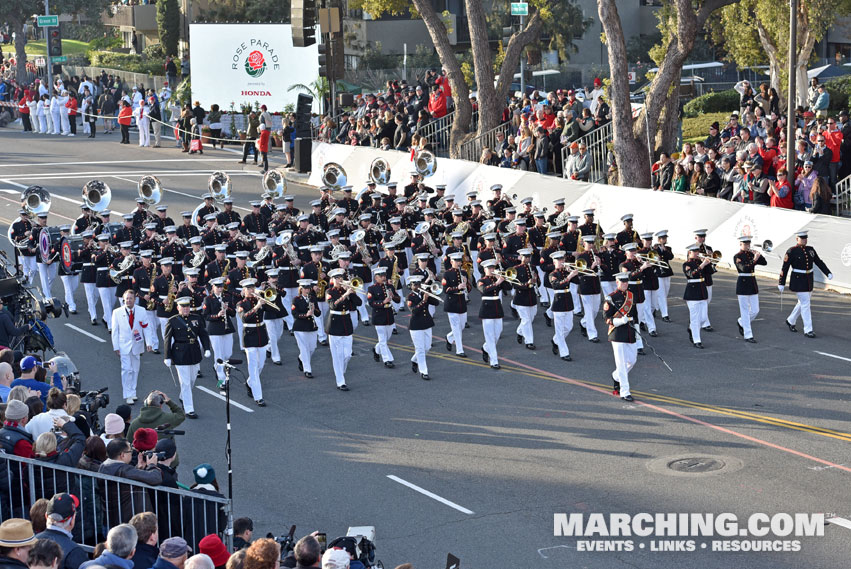feet: (733, 311, 763, 348), (785, 308, 818, 341), (607, 368, 637, 403), (477, 338, 507, 372), (240, 374, 270, 408), (405, 351, 434, 384), (176, 388, 203, 423), (328, 365, 358, 395), (370, 341, 399, 372), (549, 332, 575, 364), (443, 328, 468, 361), (577, 316, 603, 346), (119, 374, 143, 405), (294, 351, 318, 380), (514, 324, 540, 350), (685, 320, 706, 352), (259, 345, 288, 367), (692, 308, 718, 329), (651, 303, 674, 325), (638, 317, 664, 335), (85, 307, 105, 328), (62, 296, 79, 317)
